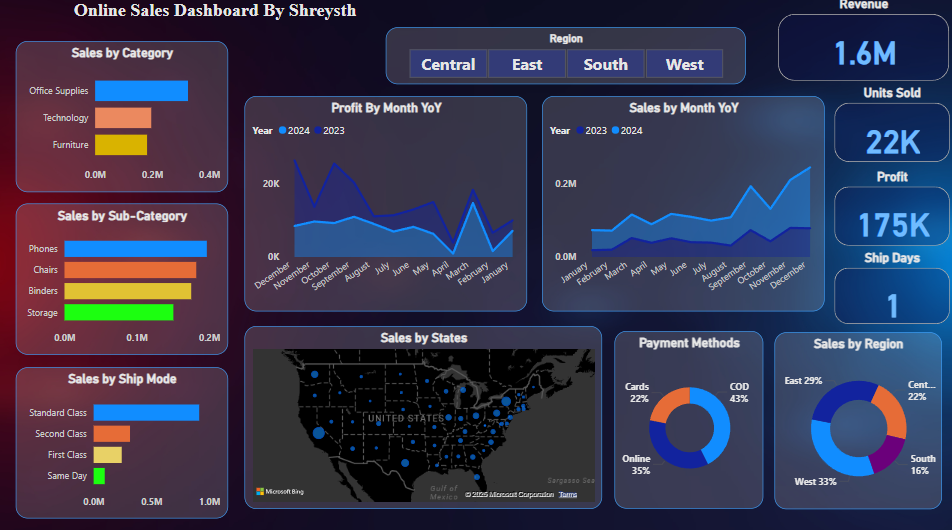

The dashboard page shown, as its layout file describes it:
{"tool":"powerbi","page":{"name":"Dashboard by Shreysth","canvas":[1280,720],"ordinal":0},"visuals":[{"type":"textbox","box":[0,0,581.4,82.9],"z":0},{"type":"barChart","title":"Sales by Ship Mode","fields":{"Category":["Sheet1.Ship Mode"],"Y":["Sheet1.Sales"]},"box":[25.7,494.3,282.9,201.4],"z":1000},{"type":"barChart","title":"Sales by Sub-Category","fields":{"Category":["Sheet1.Sub-Category"],"Y":["Sheet1.Sales"]},"box":[25.7,277.1,282.9,201.4],"z":2000},{"type":"barChart","title":"Sales by Category","fields":{"Y":["Sheet1.Sales"],"Category":["Sheet1.Category"]},"box":[25.7,60,282.9,201.4],"z":3000},{"type":"map","title":"Sales by States","fields":{"Category":["Sheet1.State"],"Size":["Sheet1.Sales"]},"box":[330,440,477.1,244.3],"z":4000},{"type":"stackedAreaChart","title":"Sales by Month YoY","fields":{"Y":["Sheet1.Sales"],"Category":["Sheet1.Order Date.Variation.Date Hierarchy.Month"],"Series":["Sheet1.Order Date.Variation.Date Hierarchy.Year"]},"box":[727.1,132.9,377.1,287.1],"z":5000},{"type":"stackedAreaChart","title":"Profit By Month YoY","fields":{"Category":["Sheet1.Order Date.Variation.Date Hierarchy.Month"],"Series":["Sheet1.Order Date.Variation.Date Hierarchy.Year"],"Y":["Sheet1.Profit"]},"box":[330,132.9,377.1,287.1],"z":6000},{"type":"slicer","title":"Region","fields":{"Values":["Sheet1.Region"]},"box":[519,41.7,479.8,76.1],"z":7000},{"type":"donutChart","title":"Payment Methods ","fields":{"Category":["Sheet1.Payment Mode"],"Y":["Sheet1.Sales"]},"box":[822.9,447.1,198.6,237.1],"z":8000},{"type":"donutChart","title":"Sales by Region","fields":{"Category":["Sheet1.Region"],"Y":["Sheet1.Sales"]},"box":[1037.1,448.6,222.9,235.7],"z":9000},{"type":"cardVisual","title":"Revenue","fields":{"Data":["Sheet1.Sales"]},"box":[1037.1,0,238.6,118.6],"z":10000},{"type":"cardVisual","title":"Profit","fields":{"Data":["Sheet1.Profit"]},"box":[1111.4,230,164.3,108.6],"z":11000},{"type":"cardVisual","title":"Ship Days","fields":{"Data":["Sheet1.AvgDelivery"]},"box":[1111.4,338.6,164.3,104.3],"z":12000},{"type":"cardVisual","title":"Units Sold","fields":{"Data":["Sheet1.Quantity"]},"box":[1111.4,118.6,164.3,108.6],"z":13000}]}

Visuals, with their boxes in screenshot pixels (x1, y1, x2, y2), scaled from the page's 1280x720 canvas onto the 952x530 screenshot:
textbox: crop(0, 0, 432, 61)
"Sales by Ship Mode" barChart: crop(19, 364, 230, 512)
"Sales by Sub-Category" barChart: crop(19, 204, 230, 352)
"Sales by Category" barChart: crop(19, 44, 230, 192)
"Sales by States" map: crop(245, 324, 600, 504)
"Sales by Month YoY" stackedAreaChart: crop(541, 98, 821, 309)
"Profit By Month YoY" stackedAreaChart: crop(245, 98, 526, 309)
"Region" slicer: crop(386, 31, 743, 87)
"Payment Methods " donutChart: crop(612, 329, 760, 504)
"Sales by Region" donutChart: crop(771, 330, 937, 504)
"Revenue" cardVisual: crop(771, 0, 949, 87)
"Profit" cardVisual: crop(827, 169, 949, 249)
"Ship Days" cardVisual: crop(827, 249, 949, 326)
"Units Sold" cardVisual: crop(827, 87, 949, 167)
